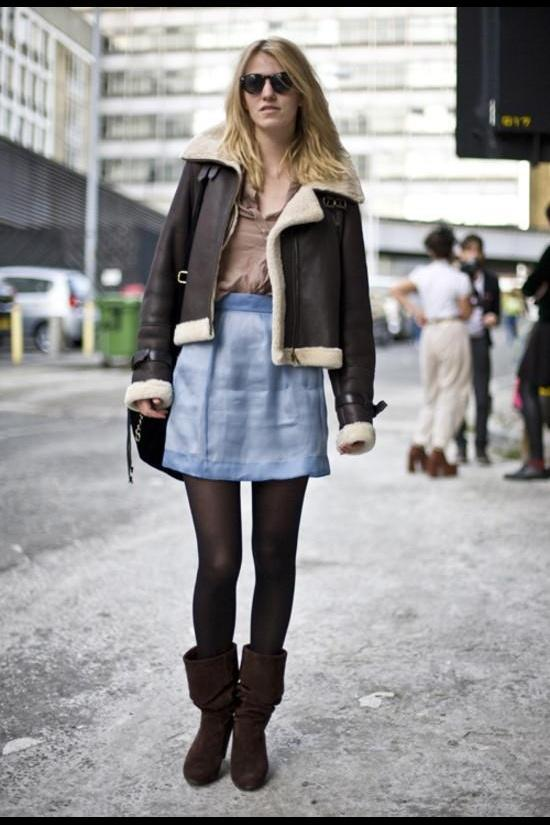skirt: (160, 294, 332, 481)
sweater: (126, 116, 386, 452)
